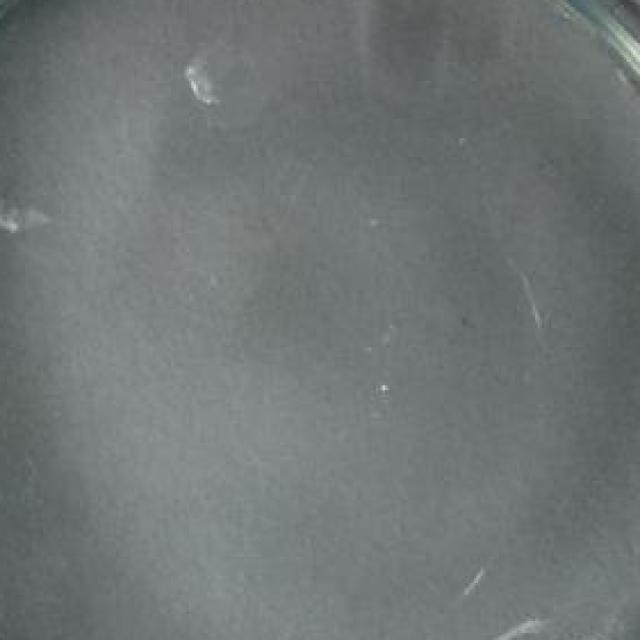Microplastic: (175, 38, 271, 133), (0, 178, 64, 245)
